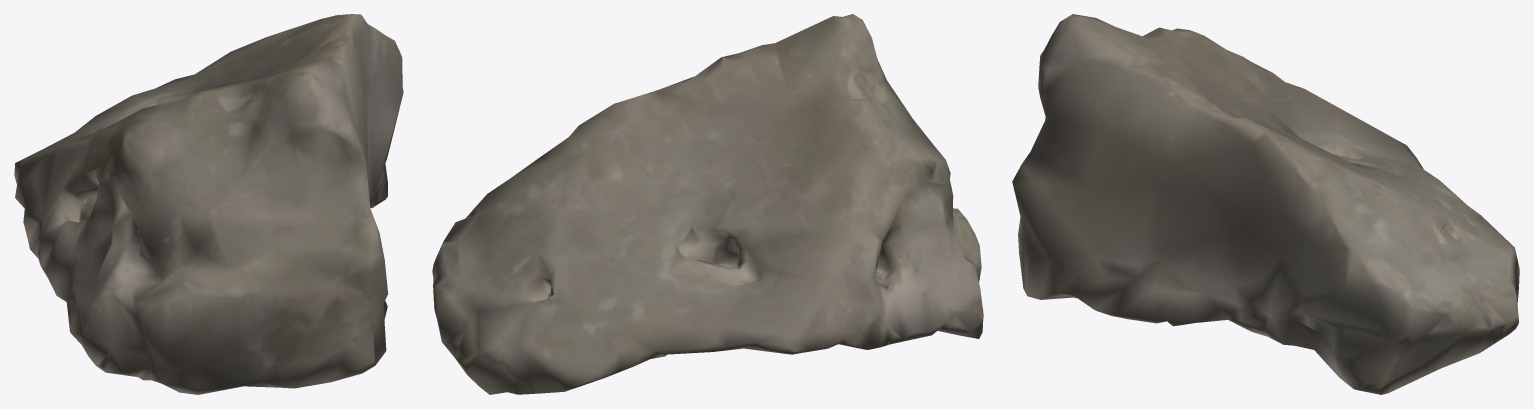
The model's file is moon_rock_06.glb.
3 renders of one model, left to right at view 1: azimuth 30°, elevation 25°; view 2: azimuth 150°, elevation 25°; view 3: azimuth 270°, elevation 25°, orthographic. The views are drawn at different scales.
Parts seen in each view (by area): view 1: moon_rock_06_LOD0; view 2: moon_rock_06_LOD0; view 3: moon_rock_06_LOD0.
Boxes of the visible parts, left/top/right/bottom form: moon_rock_06_LOD0: left=14, top=14, right=403, bottom=394; moon_rock_06_LOD0: left=432, top=14, right=983, bottom=394; moon_rock_06_LOD0: left=1012, top=14, right=1519, bottom=394.
Size of the model in its own units: 0.0854 by 0.055 by 0.0916.
1 material, 1 textured.
